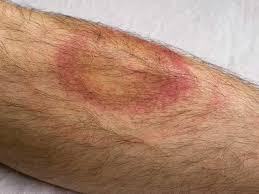Tick: (46, 17, 190, 125)
